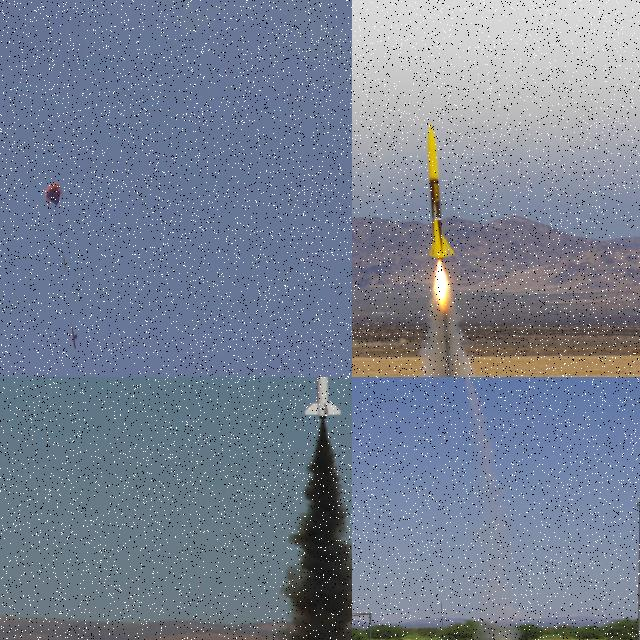Rocket: (424, 123, 456, 260), (303, 377, 343, 419)
